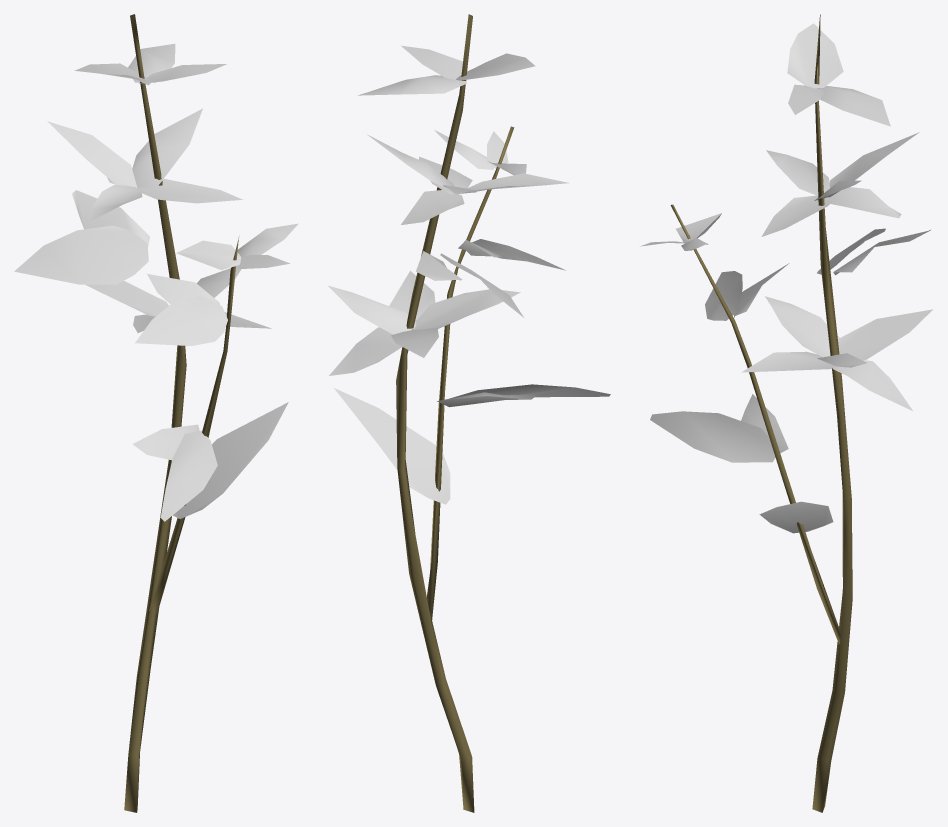
Rendered from BushStem_03.fbx.
3 renders of one model, left to right at view 1: azimuth 30°, elevation 25°; view 2: azimuth 150°, elevation 25°; view 3: azimuth 270°, elevation 25°, orthographic.
Visible parts, largest first — view 1: Simple_Leaf_02.010, Berry Stem 03.Decimated; view 2: Simple_Leaf_02.010, Berry Stem 03.Decimated; view 3: Simple_Leaf_02.010, Berry Stem 03.Decimated.
Boxes of the visible parts, box(x1,y1,x2,y2) form: Simple_Leaf_02.010: box(14, 43, 298, 521); Berry Stem 03.Decimated: box(124, 14, 239, 812); Simple_Leaf_02.010: box(327, 45, 610, 504); Berry Stem 03.Decimated: box(396, 14, 514, 812); Simple_Leaf_02.010: box(640, 23, 932, 533); Berry Stem 03.Decimated: box(670, 14, 852, 812).
Size of the model in its own units: 0.6133 by 2 by 0.671.
